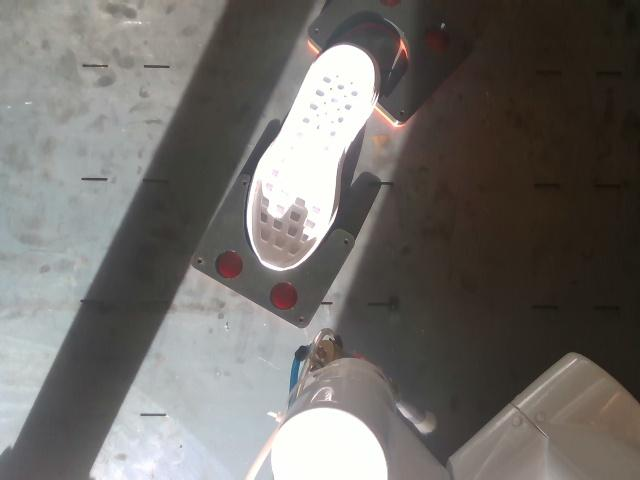shoes: (251, 45, 375, 270)
